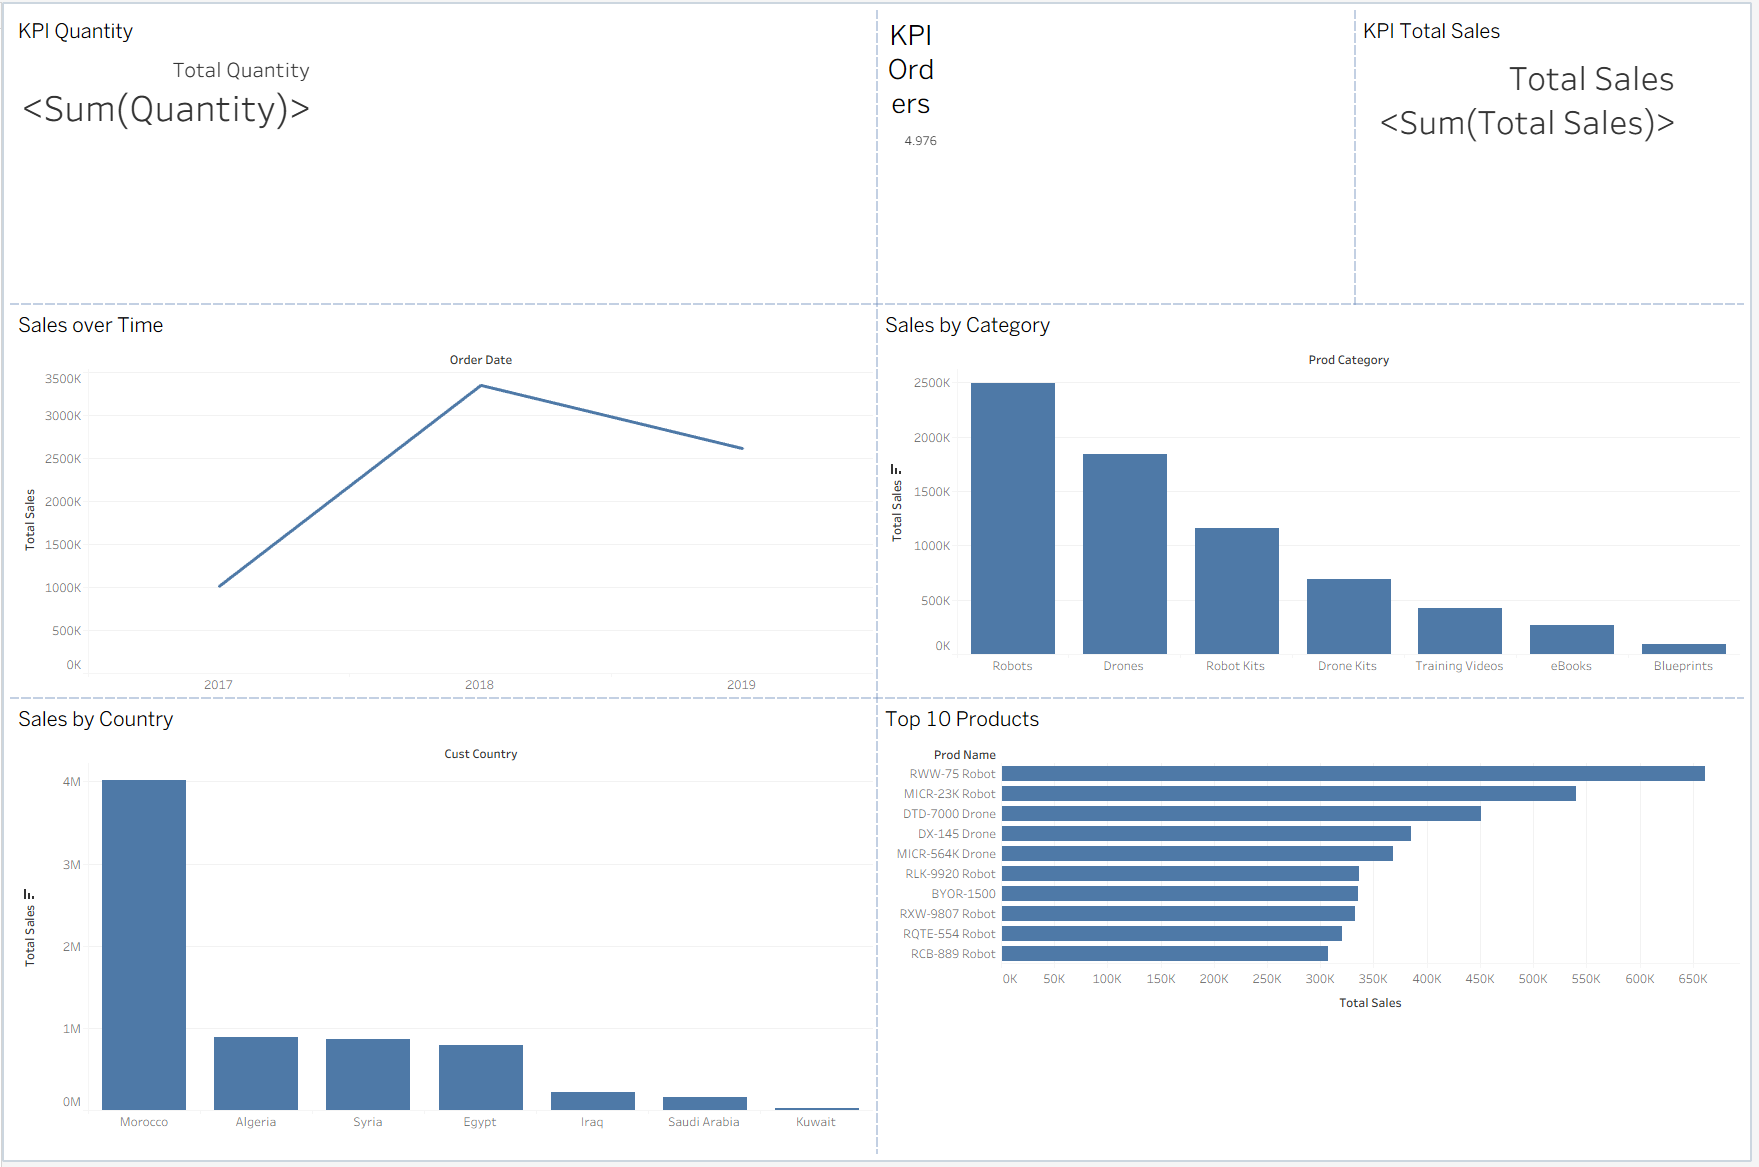

What the dashboard file says about the page in this screenshot:
{"tool":"tableau","page":{"name":"Sales Dashboard","canvas":[1000,1000],"units":"permille","ordinal":0},"visuals":[{"type":"worksheet","title":"KPI Quantity","mark":"Automatic","box":[4.6,6.9,495.4,253.4]},{"type":"worksheet","title":"KPI Orders","mark":"Automatic","box":[500,6.9,273.1,253.4]},{"type":"worksheet","title":"KPI Total Sales","mark":"Automatic","box":[773.1,6.9,222.3,253.4]},{"type":"worksheet","title":"Sales over Time","mark":"Line","rows":["Calculation_824440219122905088"],"cols":["OrderDate"],"box":[4.6,260.3,495.4,339.7]},{"type":"worksheet","title":"Sales by Category","mark":"Bar","rows":["Calculation_824440219122905088"],"cols":["ProdCategory"],"box":[500,260.3,495.4,339.7]},{"type":"worksheet","title":"Sales by Country","mark":"Automatic","rows":["Calculation_824440219122905088"],"cols":["CustCountry"],"box":[4.6,600,495.4,393.1]},{"type":"worksheet","title":"Top 10 Products","mark":"Bar","rows":["ProdName"],"cols":["Calculation_824440219122905088"],"box":[500,600,495.4,393.1]}]}

Visuals, with their boxes on the dashboard's canvas, which has no fixed pixel size, in thousandths of its width and height (x1, y1, x2, y2). These are canvas units, not pixel positions in the 1759x1167 screenshot, which may show the page scaled, cropped or inside an application window:
"KPI Quantity" worksheet: bbox(5, 7, 500, 260)
"KPI Orders" worksheet: bbox(500, 7, 773, 260)
"KPI Total Sales" worksheet: bbox(773, 7, 995, 260)
"Sales over Time" worksheet (Line marks): bbox(5, 260, 500, 600)
"Sales by Category" worksheet (Bar marks): bbox(500, 260, 995, 600)
"Sales by Country" worksheet: bbox(5, 600, 500, 993)
"Top 10 Products" worksheet (Bar marks): bbox(500, 600, 995, 993)
